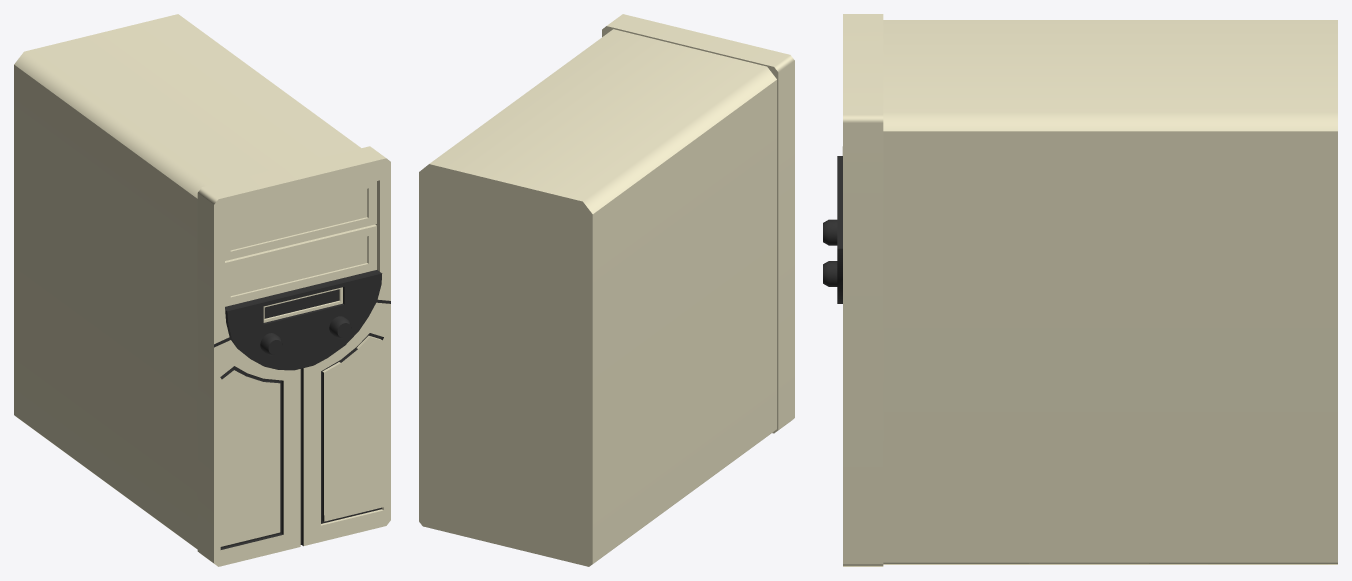
Rendered from workstation_tier6.fbx.
3 views of the same model, side by side, from view 1: azimuth 30°, elevation 25°; view 2: azimuth 150°, elevation 25°; view 3: azimuth 270°, elevation 25° (orthographic). The views are drawn at different scales.
Visible parts, largest first — view 1: Cube, Cylinder.001; view 2: Cube; view 3: Cube, Cylinder.001.
Boxes of the visible parts, x1,y1,x2,y2 form: Cube: [14, 14, 390, 566]; Cylinder.001: [260, 316, 351, 355]; Cube: [419, 14, 794, 566]; Cube: [837, 14, 1337, 566]; Cylinder.001: [823, 219, 837, 286].
Bounding box in the file's own units: 0.4328 × 0.8598 × 0.8874.
